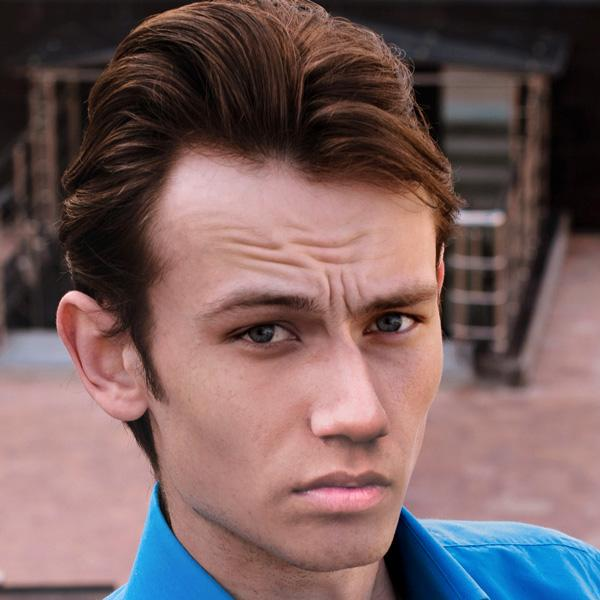Eyes: (216, 309, 314, 364), (349, 302, 436, 350)
